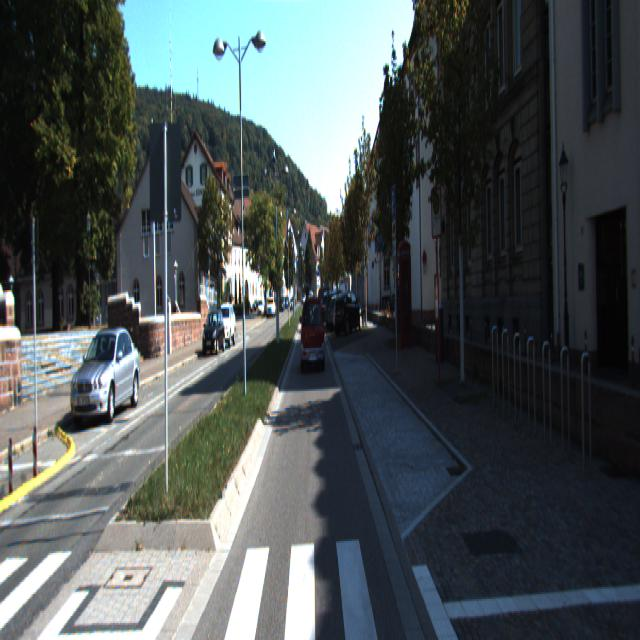Car: (70, 331, 142, 427), (302, 298, 326, 374), (334, 293, 364, 337), (202, 313, 226, 358), (328, 294, 358, 329), (215, 306, 237, 348)
